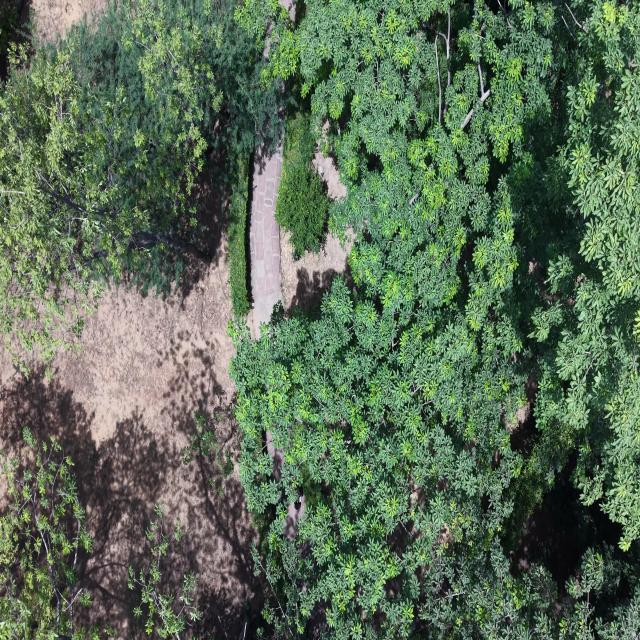DRY_AREA: (0, 214, 259, 639), (0, 219, 260, 639), (0, 230, 260, 639), (0, 233, 259, 638), (2, 377, 254, 637), (55, 183, 233, 439), (54, 255, 233, 442), (83, 182, 232, 391), (248, 144, 354, 338), (248, 141, 352, 338), (248, 140, 349, 339), (250, 149, 355, 337), (249, 147, 352, 338), (249, 150, 351, 338), (250, 146, 350, 334), (510, 474, 583, 585), (248, 140, 283, 339), (248, 140, 283, 338), (249, 144, 282, 337), (280, 230, 354, 313), (281, 230, 352, 314), (250, 150, 282, 298), (12, 0, 109, 44), (30, 0, 105, 42), (313, 149, 347, 199), (266, 431, 283, 481)
PATHWAYS: (249, 141, 282, 338), (249, 145, 282, 338), (250, 144, 282, 337)
VEGETATION_TREE: (0, 0, 639, 639), (231, 0, 639, 638), (0, 0, 279, 362), (0, 3, 221, 360), (530, 3, 639, 550), (0, 46, 130, 360), (163, 0, 282, 314), (0, 428, 115, 639), (0, 429, 100, 639), (128, 503, 201, 639), (276, 112, 329, 258), (182, 411, 233, 495), (228, 157, 250, 317), (182, 411, 218, 464), (0, 0, 19, 79)
